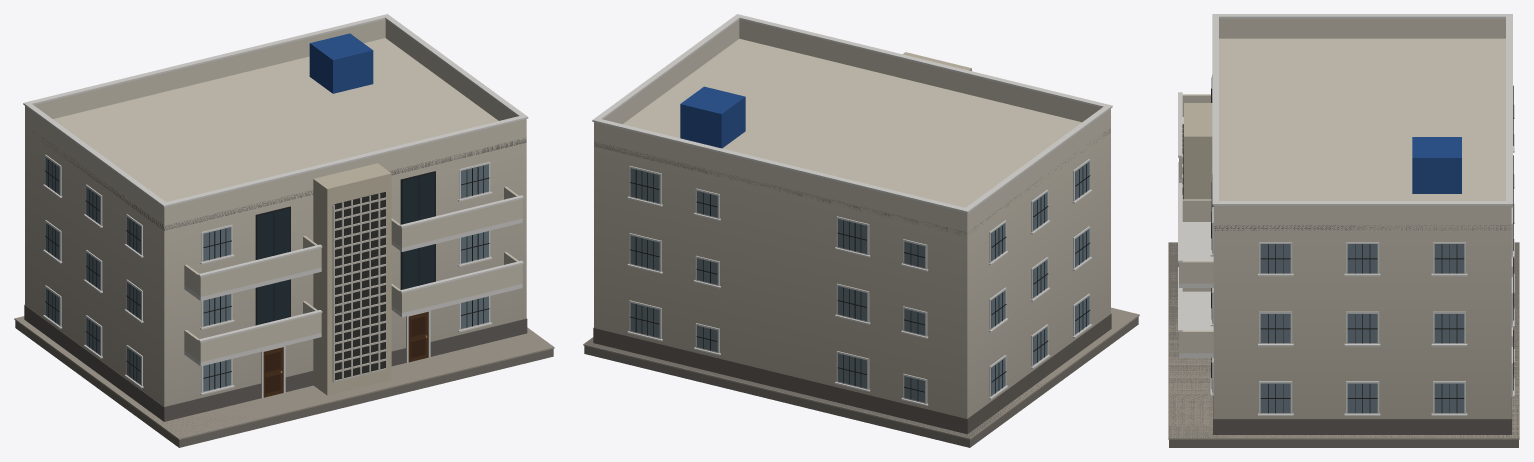
File: ns_flats3.glb
The picture shows the model from 3 angles, left to right: view 1: azimuth 30°, elevation 25°; view 2: azimuth 150°, elevation 25°; view 3: azimuth 270°, elevation 25°; orthographic projection. The views are drawn at different scales.
Parts seen in each view (by area): view 1: ns_flats3; view 2: ns_flats3; view 3: ns_flats3.
Part boxes in pixels (x1=…): ns_flats3: x1=14, y1=14, x2=554, y2=447; ns_flats3: x1=583, y1=14, x2=1139, y2=447; ns_flats3: x1=1168, y1=14, x2=1519, y2=447.
Size of the model in its own units: 18.66 by 11.35 by 14.16.
